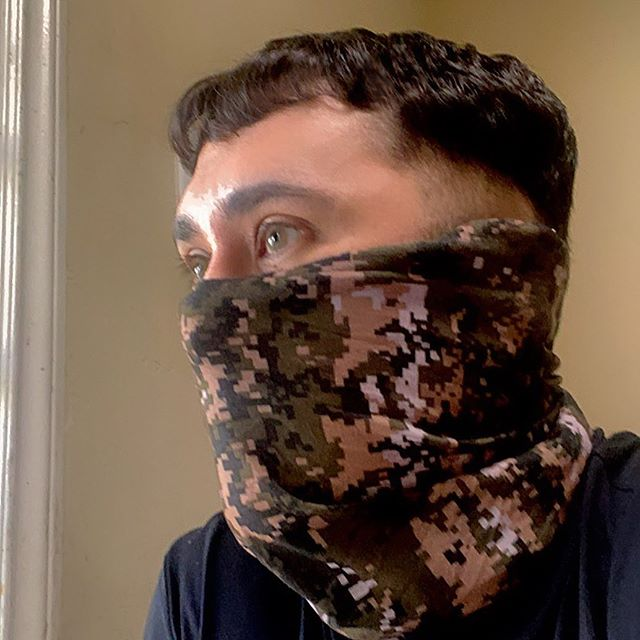homemade: (176, 235, 567, 604)
